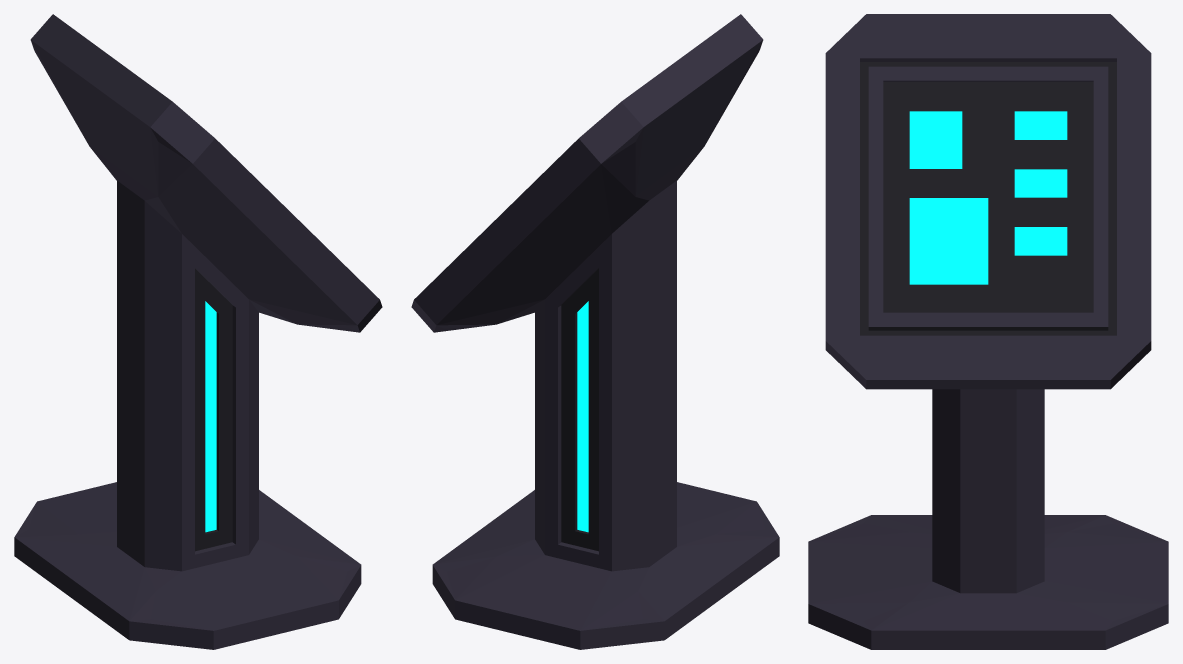
File: SM_Control_Pannel.fbx
3 views of the same model, side by side, from view 1: azimuth 30°, elevation 25°; view 2: azimuth 150°, elevation 25°; view 3: azimuth 270°, elevation 25° (orthographic).
Visible parts, largest first — view 1: SM_Control_Pannel; view 2: SM_Control_Pannel; view 3: SM_Control_Pannel.
Boxes of the visible parts, bbox=[...] form: SM_Control_Pannel: bbox=[14, 14, 382, 649]; SM_Control_Pannel: bbox=[411, 14, 779, 649]; SM_Control_Pannel: bbox=[808, 14, 1168, 649].
Bounding box in the file's own units: 51.5 × 104 × 62.86.
